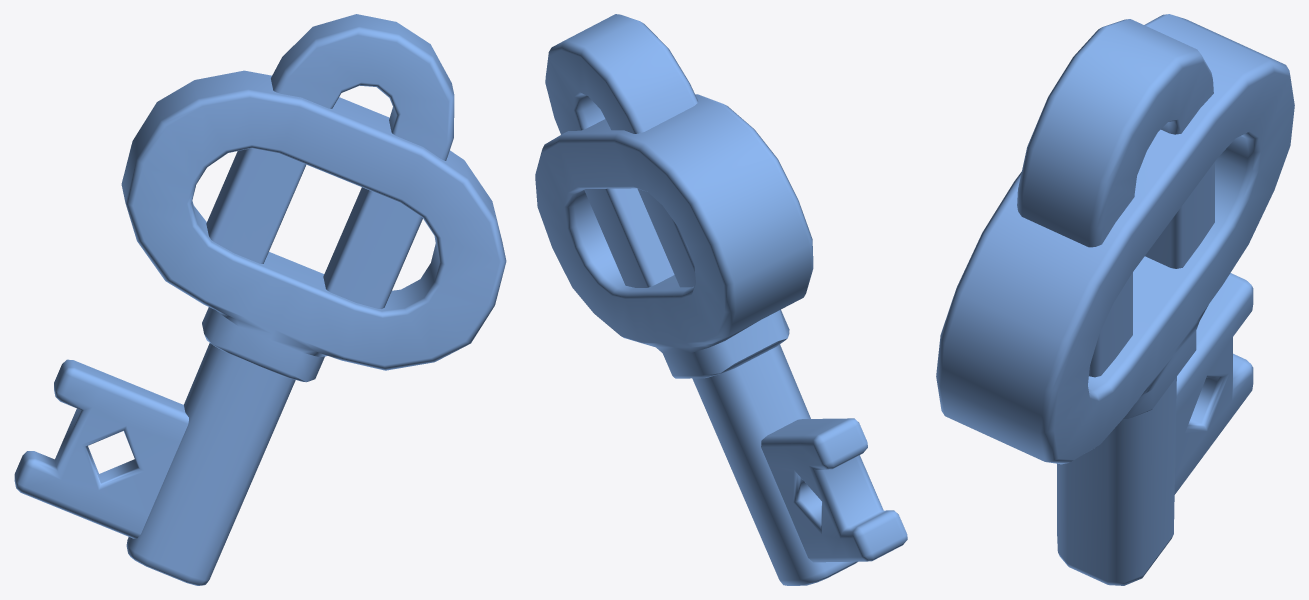
3 renders of one model, left to right at view 1: azimuth 30°, elevation 25°; view 2: azimuth 150°, elevation 25°; view 3: azimuth 270°, elevation 25°, orthographic. The views are drawn at different scales.
Visible parts, largest first — view 1: model_1.105; view 2: model_1.105; view 3: model_1.105.
Part boxes in pixels (x1,y1,x2,y2): model_1.105: [14, 14, 506, 585]; model_1.105: [535, 14, 907, 585]; model_1.105: [936, 14, 1294, 585].
Size of the model in its own units: 4.19 by 4.85 by 2.41.
